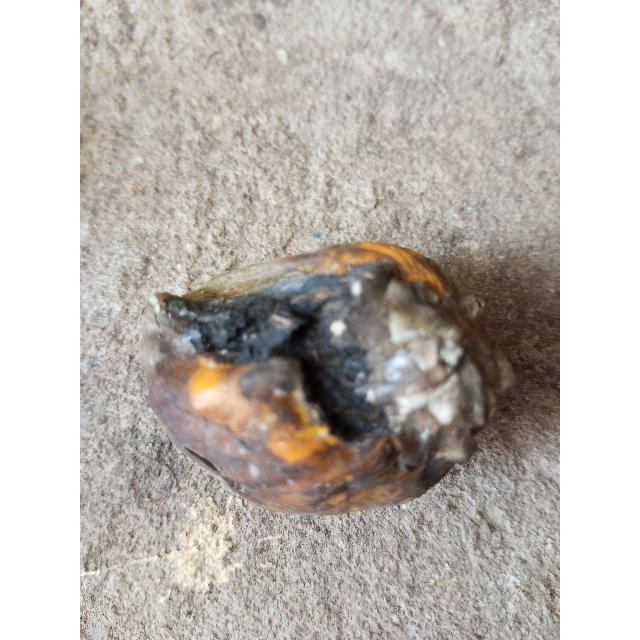damaged: (147, 241, 512, 517)
